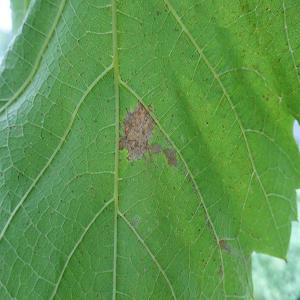Folha: (0, 0, 299, 299)
Fungo: (118, 99, 178, 168), (162, 147, 178, 167), (219, 239, 231, 255), (150, 141, 162, 155), (262, 92, 270, 102), (130, 218, 136, 228), (148, 102, 152, 111), (125, 124, 129, 131)
